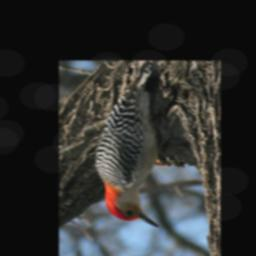Woodpecker: (93, 63, 172, 229)
